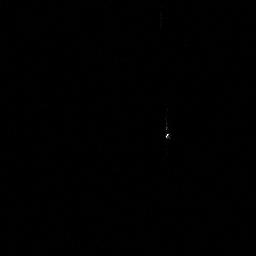ship: (165, 119, 172, 143)
